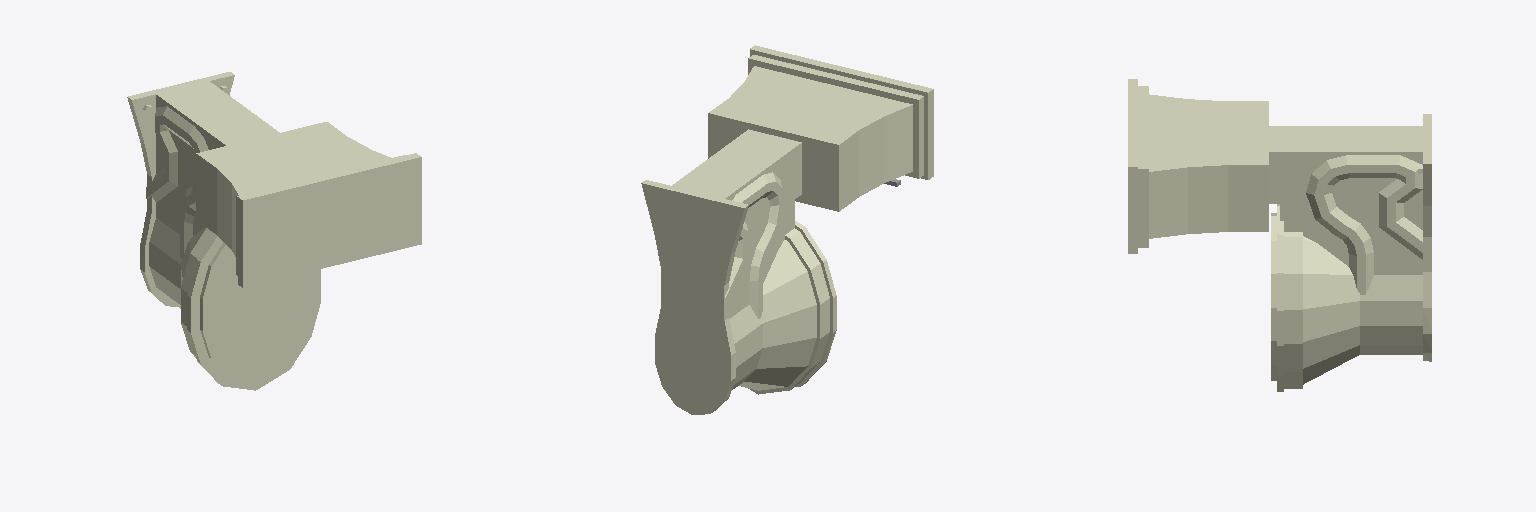
File: cat33_toilet.obj
The picture shows the model from 3 angles: view 1: azimuth 30°, elevation 25°; view 2: azimuth 150°, elevation 25°; view 3: azimuth 270°, elevation 25°; orthographic projection.
Parts seen in each view (by area): view 1: Flush Tank, Toilet, Seat Cap; view 2: Toilet, Flush Tank; view 3: Toilet, Flush Tank, Seat Cap.
Part boxes in pixels (x1,y1,x2,y2): Flush Tank: (196, 122, 421, 287); Toilet: (127, 72, 320, 390); Seat Cap: (200, 242, 314, 382); Toilet: (641, 129, 836, 414); Flush Tank: (708, 45, 933, 211); Toilet: (1269, 114, 1431, 391); Flush Tank: (1128, 79, 1268, 253); Seat Cap: (1271, 213, 1276, 380).
Bounding box in the file's own units: 21.85 × 31.07 × 32.27.